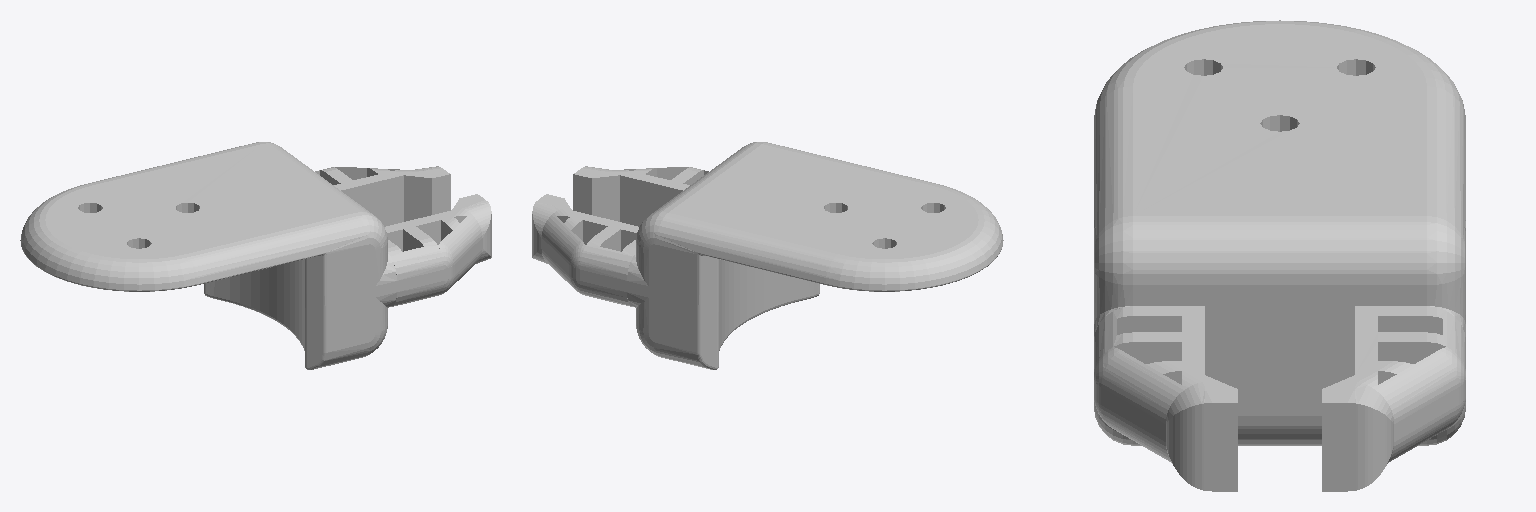
The robot description file, URDF, robot "RobotBimanualV3":
<?xml version="1.0" encoding="utf-8"?>
<!-- This URDF was automatically created by SolidWorks to URDF Exporter! Originally created by [author] ([email redacted]) 
     Commit Version: 1.6.0-4-g7f85cfe  Build Version: 1.6.7995.38578
     For more information, please see http://wiki.ros.org/sw_urdf_exporter -->
<robot
  name="RobotBimanualV3">
  <link
    name="base_link">
    <inertial>
      <origin
        xyz="0.010321 0.00065104 0.5185"
        rpy="0 0 0" />
      <mass
        value="35.545" />
      <inertia
        ixx="1.3259"
        ixy="-1.6443E-06"
        ixz="-0.00012106"
        iyy="1.3119"
        iyz="-1.547E-06"
        izz="0.026428" />
    </inertial>
    <visual>
      <origin
        xyz="0 0 0"
        rpy="0 0 0" />
      <geometry>
        <mesh
          filename="package://RobotBimanualV3/meshes/base_link.obj" />
      </geometry>
      <material
        name="">
        <color
          rgba="0.79216 0.81961 0.93333 1" />
      </material>
    </visual>
    <collision>
      <origin
        xyz="0 0 0"
        rpy="0 0 0" />
      <geometry>
        <mesh
          filename="package://RobotBimanualV3/meshes/base_link_simplified_decomposed.obj" />
      </geometry>
    </collision>
  </link>
  <link
    name="link1">
    <inertial>
      <origin
        xyz="0.00277367 6.161E-05 0.05165334"
        rpy="0 0 0" />
      <mass
        value="0.706" />
      <inertia
        ixx="0.00074611"
        ixy="5.4E-07"
        ixz="5.3E-07"
        iyy="0.00054009"
        iyz="3.26E-06"
        izz="0.00050643" />
    </inertial>
    <visual>
      <origin
        xyz="0 0 0"
        rpy="0 0 0" />
      <geometry>
        <mesh
          filename="package://RobotBimanualV3/meshes/link1.obj" />
      </geometry>
      <material
        name="">
        <color
          rgba="1 1 1 1" />
      </material>
    </visual>
    <collision>
      <origin
        xyz="0 0 0"
        rpy="0 0 0" />
      <geometry>
        <mesh
          filename="package://RobotBimanualV3/meshes/Simplified_link1_decomposed.obj" />
      </geometry>
    </collision>
  </link>
  <joint
    name="joint1"
    type="revolute">
    <origin
      xyz="0.02 0.1037 0.8358"
      rpy="0 0 0" />
    <parent
      link="base_link" />
    <child
      link="link1" />
    <axis
      xyz="0 0 1" />
    <limit
      lower="-1.57079633"
      upper="0.87266463"
      effort="4"
      velocity="2.17" />
  </joint>
  <link
    name="link2">
    <inertial>
      <origin
        xyz="-0.00124394 -5.732E-05 0.0545228"
        rpy="0 0 0" />
      <mass
        value="0.659" />
      <inertia
        ixx="0.00064807"
        ixy="8.3E-07"
        ixz="-4.6E-07"
        iyy="0.00045162"
        iyz="-1.01E-06"
        izz="0.00043422" />
    </inertial>
    <visual>
      <origin
        xyz="0 0 0"
        rpy="0 0 0" />
      <geometry>
        <mesh
          filename="package://RobotBimanualV3/meshes/link2.obj" />
      </geometry>
      <material
        name="">
        <color
          rgba="1 1 1 1" />
      </material>
    </visual>
    <collision>
      <origin
        xyz="0 0 0"
        rpy="0 0 0" />
      <geometry>
        <mesh
          filename="package://RobotBimanualV3/meshes/Simplified_link2_decomposed.obj" />
      </geometry>
    </collision>
  </link>
  <joint
    name="joint2"
    type="revolute">
    <origin
      xyz="-0.020519 0.0080718 0.0528"
      rpy="-1.5708 0 1.5708" />
    <parent
      link="link1" />
    <child
      link="link2" />
    <axis
      xyz="0 0 1" />
    <limit
      lower="-0.87266463"
      upper="0.87266463"
      effort="4"
      velocity="2.17" />
  </joint>
  <link
    name="link3">
    <inertial>
      <origin
        xyz="-0.03505493 -0.006151 0.05438578"
        rpy="0 0 0" />
      <mass
        value="1.095" />
      <inertia
        ixx="0.00161847"
        ixy="0.00042205"
        ixz="-0.00104433"
        iyy="0.0066165"
        iyz="-0.0001917"
        izz="0.00653551" />
    </inertial>
    <visual>
      <origin
        xyz="0 0 0"
        rpy="0 0 0" />
      <geometry>
        <mesh
          filename="package://RobotBimanualV3/meshes/link3.obj" />
      </geometry>
      <material
        name="">
        <color
          rgba="0.79216 0.81961 0.93333 1" />
      </material>
    </visual>
    <collision>
      <origin
        xyz="0 0 0"
        rpy="0 0 0" />
      <geometry>
        <mesh
          filename="package://RobotBimanualV3/meshes/Simplified_link3_decomposed.obj" />
      </geometry>
    </collision>
  </link>
  <joint
    name="joint3"
    type="revolute">
    <origin
      xyz="0.014928 0 0.058031"
      rpy="-1.5708 0 -1.5708" />
    <parent
      link="link2" />
    <child
      link="link3" />
    <axis
      xyz="0 0 1" />
    <limit
      lower="-3.14159265"
      upper="0.87266463"
      effort="4"
      velocity="2.17" />
  </joint>
  <link
    name="link4">
    <inertial>
      <origin
        xyz="-0.00914828 -0.00042727 -7.12E-06"
        rpy="0 0 0" />
      <mass
        value="0.268" />
      <inertia
        ixx="9.136E-05"
        ixy="7E-08"
        ixz="-2E-08"
        iyy="0.00013894"
        iyz="0"
        izz="0.00013031" />
    </inertial>
    <visual>
      <origin
        xyz="0 0 0"
        rpy="0 0 0" />
      <geometry>
        <mesh
          filename="package://RobotBimanualV3/meshes/link4.obj" />
      </geometry>
      <material
        name="">
        <color
          rgba="0.79216 0.81961 0.93333 1" />
      </material>
    </visual>
    <collision>
      <origin
        xyz="0 0 0"
        rpy="0 0 0" />
      <geometry>
        <mesh
          filename="package://RobotBimanualV3/meshes/Simplified_link4_decomposed.obj" />
      </geometry>
    </collision>
  </link>
  <joint
    name="joint4"
    type="revolute">
    <origin
      xyz="-0.25 0 0.08318"
      rpy="0 0 1.5708" />
    <parent
      link="link3" />
    <child
      link="link4" />
    <axis
      xyz="0 0 1" />
    <limit
      lower="-0.78539816"
      upper="1.30899694"
      effort="4"
      velocity="2.17" />
  </joint>
  <link
    name="link5">
    <inertial>
      <origin
        xyz="-0.00143459 -5.019E-05 0.22261684"
        rpy="0 0 0" />
      <mass
        value="0.285" />
      <inertia
        ixx="0.00170458"
        ixy="1.5E-07"
        ixz="-2.111E-05"
        iyy="0.00168732"
        iyz="-5.6E-07"
        izz="7.029E-05" />
    </inertial>
    <visual>
      <origin
        xyz="0 0 0"
        rpy="0 0 0" />
      <geometry>
        <mesh
          filename="package://RobotBimanualV3/meshes/link5.obj" scale="0.9 0.9 1" />
      </geometry>
      <material
        name="">
        <color
          rgba="0.79216 0.81961 0.93333 1" />
      </material>
    </visual>
    <collision>
      <origin
        xyz="0 0 0"
        rpy="0 0 0" />
      <geometry>
        <mesh
          filename="package://RobotBimanualV3/meshes/Simplified_link5_decomposed.obj" scale="0.9 0.9 1"  />
      </geometry>
    </collision>
  </link>
  <joint
    name="joint5"
    type="revolute">
    <origin
      xyz="0.014 0 0"
      rpy="-1.5708 0 -1.5708" />
    <parent
      link="link4" />
    <child
      link="link5" />
    <axis
      xyz="0 0 1" />
    <limit
      lower="-3.66519143"
      upper="3.66519143"
      effort="1"
      velocity="2.17" />
  </joint>
  <link
    name="link6">
    <inertial>
      <origin
        xyz="1.96220729248298E-08 0.0306524460714315 -0.00427523962371945"
        rpy="0 0 0" />
      <mass
        value="0.0592889440404456" />
      <inertia
        ixx="3.59276003023524E-05"
        ixy="-8.27592263137854E-11"
        ixz="1.05919137360094E-10"
        iyy="2.26884378809268E-05"
        iyz="8.10619055547192E-06"
        izz="4.38778249475006E-05" />
    </inertial>
    <visual>
      <origin
        xyz="0 0 0"
        rpy="0 0 0" />
      <geometry>
        <mesh
          filename="package://RobotBimanualV3/meshes/V2link6_hand.obj" />
      </geometry>
      <material
        name="">
        <color
          rgba="0.823529411764706 0.823529411764706 0.823529411764706 1" />
      </material>
    </visual>
    <collision>
      <origin
        xyz="0 0 0"
        rpy="0 0 0" />
      <geometry>
        <mesh
          filename="package://RobotBimanualV3/meshes/V2link6_hand_coacd.obj" />
      </geometry>
    </collision>
  </link>
  <joint
    name="joint6"
    type="revolute">
    <origin
      xyz="0.0141500000000001 0 0.2633"
      rpy="1.5707963267949 0 1.5707963267949" />
    <parent
      link="link5" />
    <child
      link="link6" />
    <axis
      xyz="0 0 1" />
    <limit
      lower="-2.0944"
      upper="2.0944"
      effort="1"
      velocity="2.17" />
  </joint>
  <link
    name="link6_finger">
    <inertial>
      <origin
        xyz="0.0714463212232544 -6.31832618863681E-08 0.0190000024252155"
        rpy="0 0 0" />
      <mass
        value="0.00984991794949639" />
      <inertia
        ixx="4.60166664635759E-07"
        ixy="-1.47219073587769E-13"
        ixz="-1.8754366442688E-13"
        iyy="1.24446354258398E-06"
        iyz="6.01507600040525E-14"
        izz="1.37994743489344E-06" />
    </inertial>
    <visual>
      <origin
        xyz="0 0 0"
        rpy="0 0 0" />
      <geometry>
        <mesh
          filename="package://RobotBimanualV3/meshes/V2link6_finger.obj" />
      </geometry>
      <material
        name="">
        <color
          rgba="0.823529411764706 0.823529411764706 0.823529411764706 1" />
      </material>
    </visual>
    <collision>
      <origin
        xyz="0 0 0"
        rpy="0 0 0" />
      <geometry>
        <mesh
          filename="package://RobotBimanualV3/meshes/V2link6_finger_coacd.obj" />
      </geometry>
    </collision>
  </link>
  <joint
    name="joint_gripper"
    type="fixed">
    <origin
      xyz="0 0 -0.0290000000000001"
      rpy="0 0 1.57079632679489" />
    <parent
      link="link6" />
    <child
      link="link6_finger" />
    <axis
      xyz="0 0 0" />
  </joint>
  <link name="tool1">
    <inertial>
      <origin
        xyz="0 0 0"
        rpy="0 0 0" />
      <mass
        value="0" />
      <inertia
        ixx="0"
        ixy="0"
        ixz="0"
        iyy="0"
        iyz="0"
        izz="0" />
    </inertial>
  </link>
  <joint name="tool1_frame" type="fixed">
    <origin xyz="0.0 0.0875 -0.01" rpy="0 0 0" />
    <parent link="link6" />
    <child link="tool1" />
  </joint>
</robot>

--- What the picture shows (computed from the rendered views, not written in the file) ---
Views: 3 orthographic renders of the robot side by side, from view 1: azimuth 30°, elevation 25°; view 2: azimuth 150°, elevation 25°; view 3: azimuth 270°, elevation 25°.
Model RobotBimanualV3 with 9 links and 8 joints (6 revolute, 2 fixed), rooted at base_link, posed every joint at zero.
Visible links, largest first — view 1: link6, link6_finger; view 2: link6, link6_finger; view 3: link6, link6_finger.
Link boxes in pixels (x1,y1,x2,y2): link6: (20, 142, 396, 369); link6_finger: (315, 166, 491, 306); link6: (627, 142, 1003, 369); link6_finger: (532, 166, 708, 306); link6: (1094, 20, 1465, 445); link6_finger: (1094, 306, 1465, 491).
Size in the robot's own frame: 0.1185 by 0.057 by 0.038 metres.
2 mesh visuals loaded from 8 distinct referenced files (2 OBJ); not drawn: 6 (reference not matched to a file when rendering).